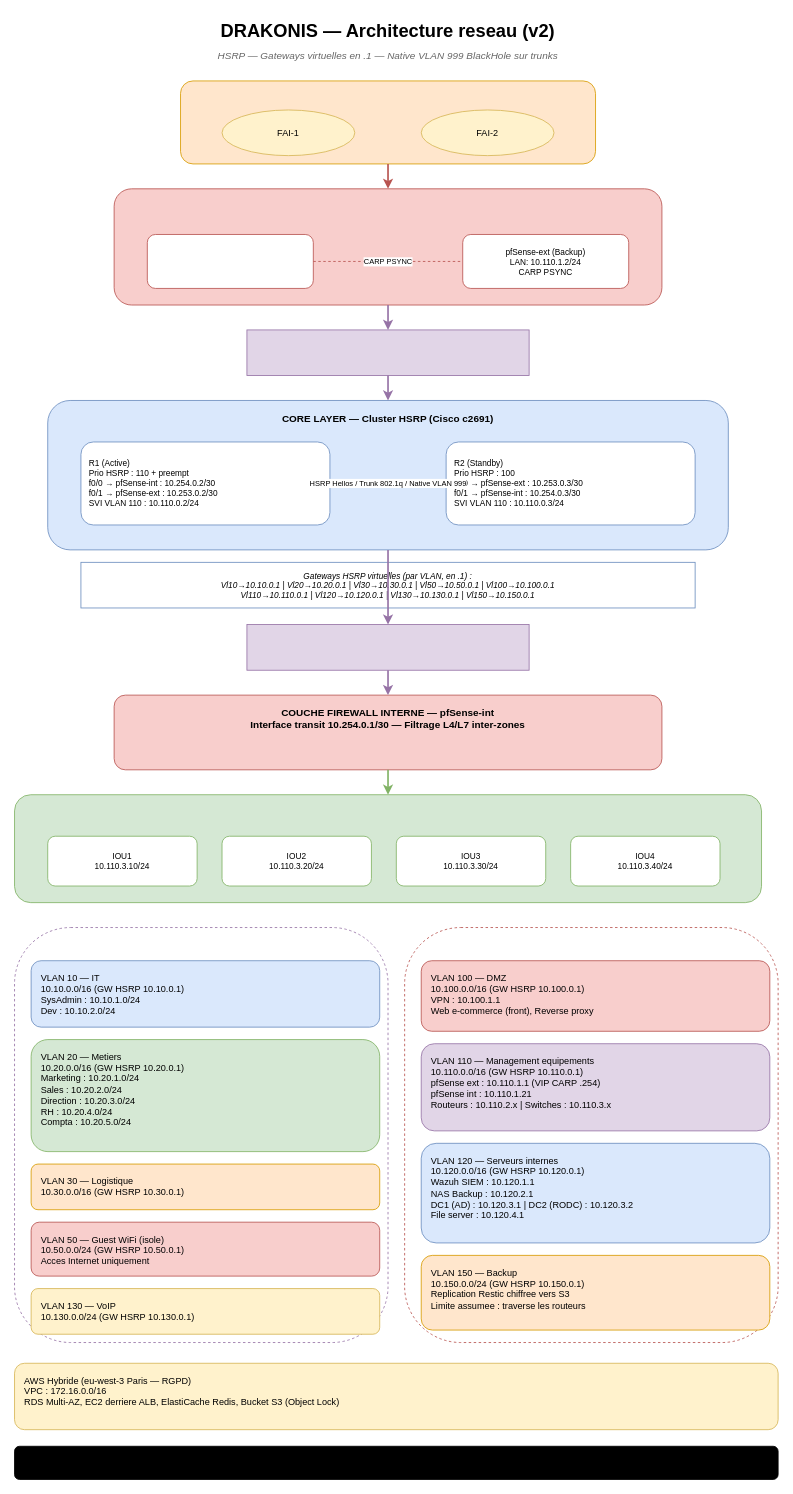
Some shapes in this 793 by 1494 pixel diagram are drawn without their labels. The box of each missing label's shape, as (x1, y1, x2, y2) in pixels:
ACCESS LAYER — Switches IOU (L2 pur, trunks 802.1q, native 999): (14, 794, 762, 903)
COUCHE FIREWALL EXTERNE — pfSense-ext (CARP HA) VIP CARP : 10.110.1.254: (113, 188, 662, 305)
pfSense-ext (Active) WAN : DHCP labo LAN: 10.110.1.1/24: (146, 234, 313, 288)
Transit pfSense externe / Routeurs 10.253.0.0/30 pfSense-ext .1 | R1 .2 | R2 .3: (246, 329, 529, 376)
Transit pfSense interne / Routeurs 10.254.0.0/30 pfSense-int .1 | R1 .2 | R2 .3: (246, 624, 529, 670)
VLAN 999 — BlackHole (native trunks, anti-VLAN hopping) — Aucune IP: (14, 1445, 778, 1479)
VLANs MACHINES / SERVICES: (404, 927, 778, 1343)
VLANs UTILISATEURS: (14, 927, 388, 1343)
WAN: (180, 80, 596, 164)
